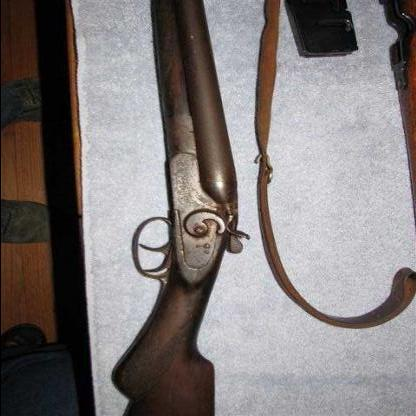rifle: (101, 0, 285, 415)
